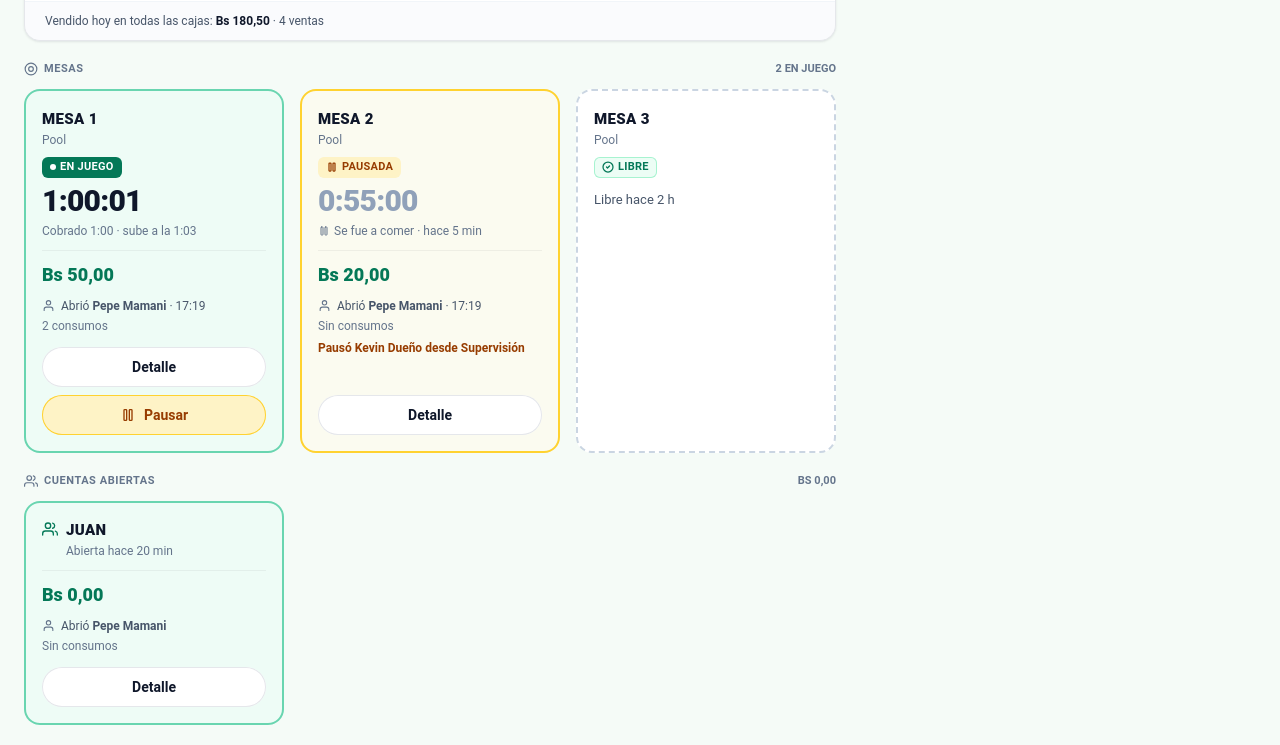
Test: Billar: la supervisión del administrador › el detalle de una mesa dice quién cargó cada consumo y quién anuló el que se sacó
This screenshot has width=1280, height=745.
(page scrolled)
Click the button "Detalle" below "2 consumos": (154, 366) x1=42 y1=346 x2=266 y2=386
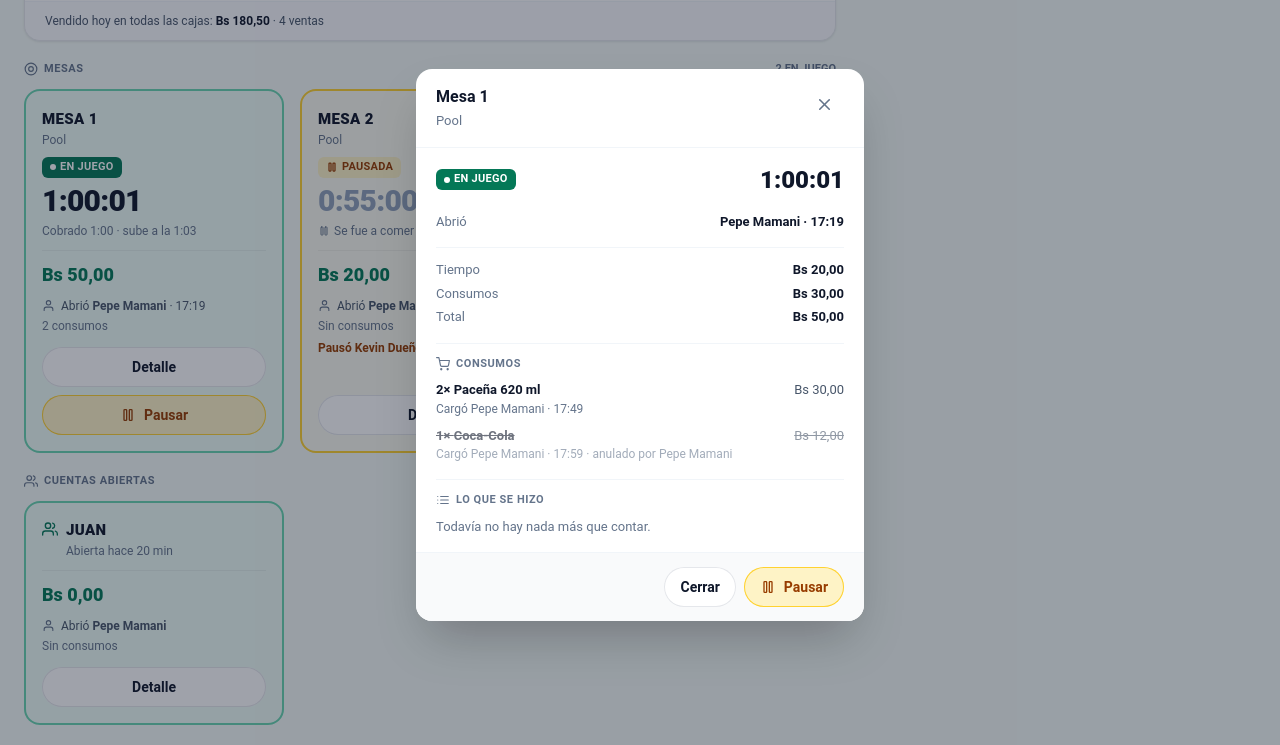
Expected: the text "2× Paceña 620 ml" is shown, x1=436 y1=380 x2=540 y2=400
Expected: the text "Cargó Pepe Mamani · 17:49" is shown 2 times, x1=436 y1=402 x2=583 y2=416; x1=436 y1=447 x2=732 y2=461
Expected: the text "Cargó Pepe Mamani · 17:59 · anulado por Pepe Mamani" is shown, x1=436 y1=447 x2=732 y2=461
